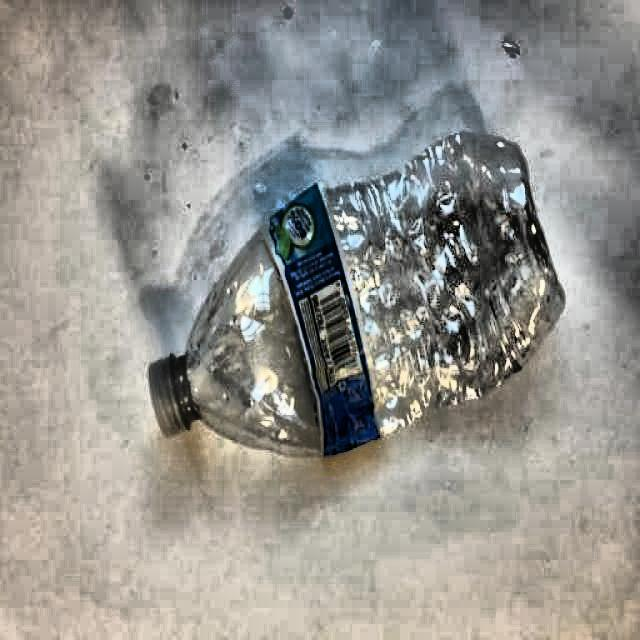plastic bottle: (149, 134, 565, 456)
